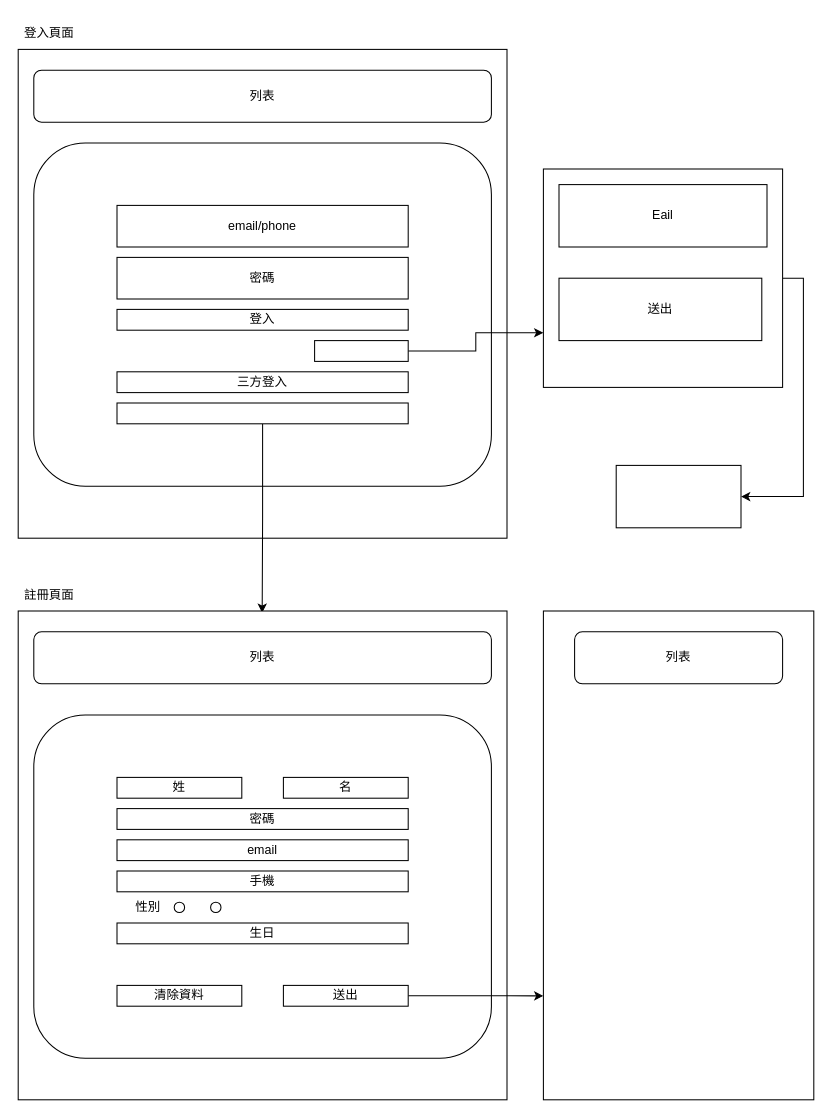
The diagram is 832 pixels wide and 1118 high, and some of its shapes have lost their labels. The box of each missing label's shape, as (x1, y1, x2, y2) in pixels:
忘記密碼: (314, 340, 408, 361)
發送臨時密碼信: (615, 464, 741, 528)
註冊: (116, 402, 408, 424)
驗證信已發送,請透過註冊信箱開通: (542, 610, 814, 1100)
